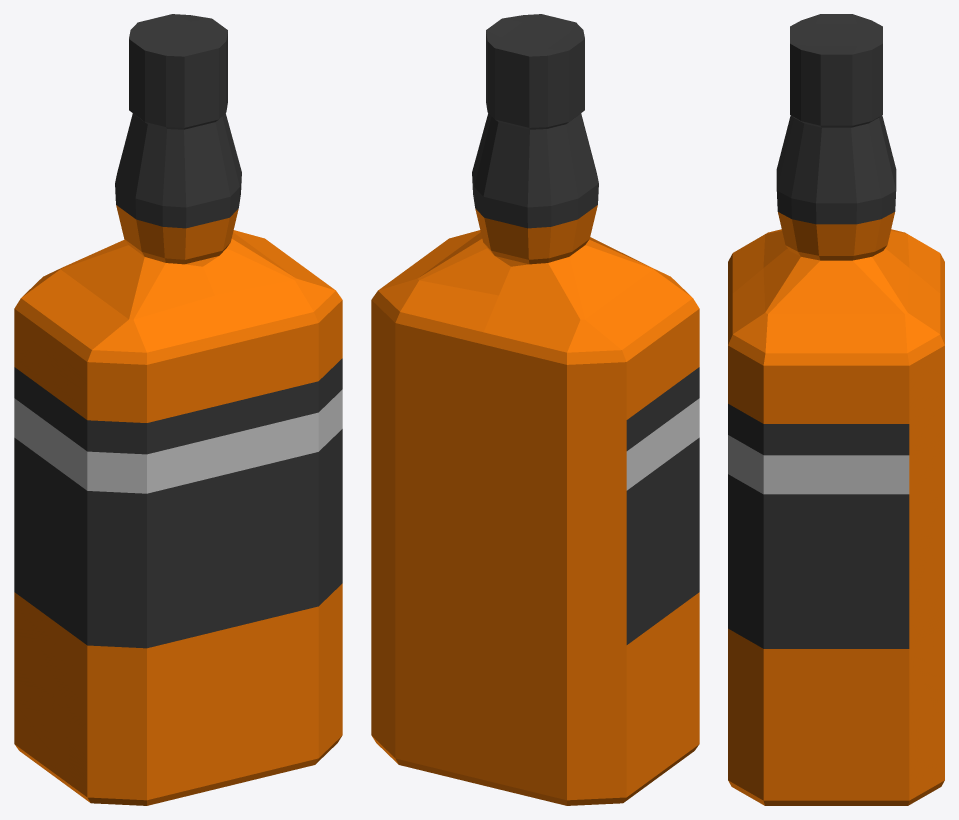
File: Whiskey_01.fbx
The picture shows the model from 3 angles, left to right: view 1: azimuth 30°, elevation 25°; view 2: azimuth 150°, elevation 25°; view 3: azimuth 270°, elevation 25°; orthographic projection.
Visible parts, largest first — view 1: Whiskey_01; view 2: Whiskey_01; view 3: Whiskey_01.
Part boxes in pixels (x1=…): Whiskey_01: x1=14, y1=14, x2=342, y2=805; Whiskey_01: x1=371, y1=14, x2=699, y2=805; Whiskey_01: x1=728, y1=14, x2=944, y2=805.
Bounding box in the file's own units: 8.76 × 23.37 × 6.46.
